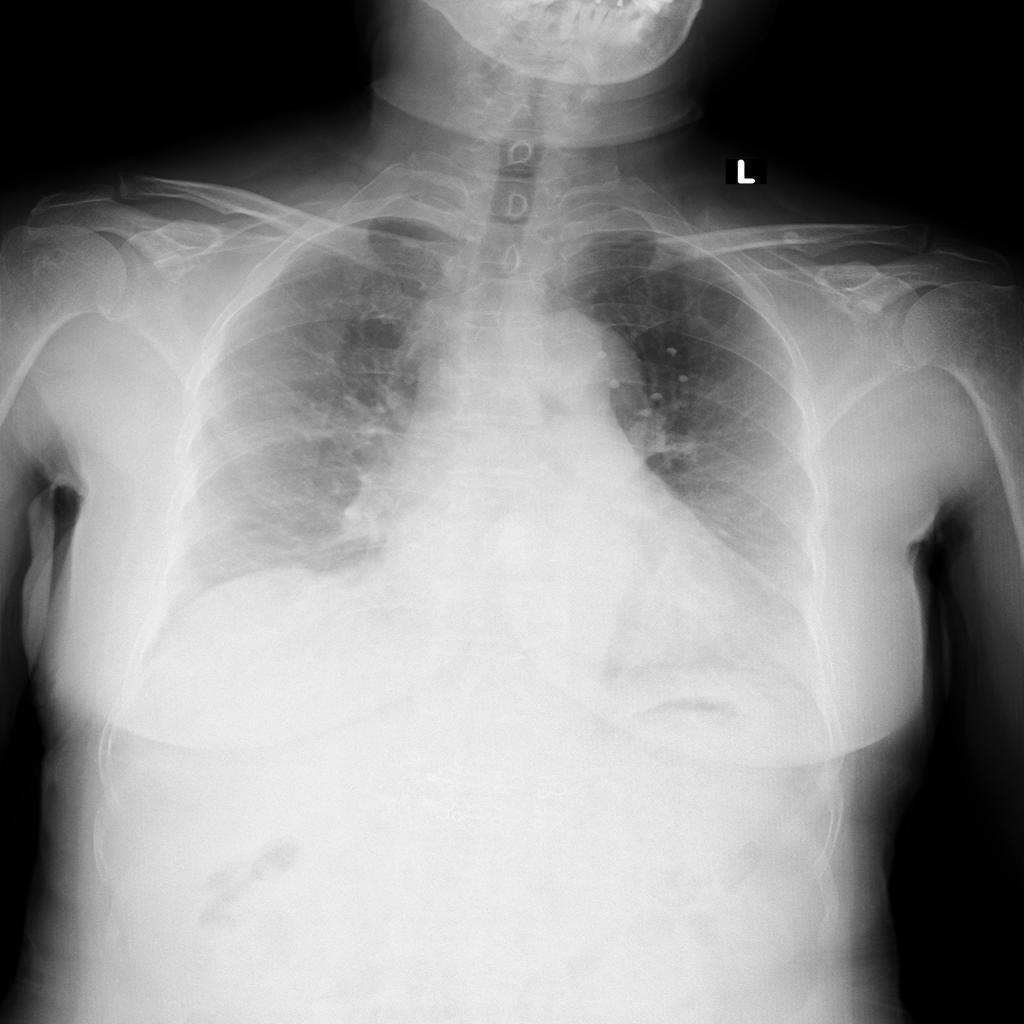Nodule: (671, 371, 697, 388), (665, 346, 681, 361), (605, 378, 623, 391), (593, 349, 612, 360), (649, 393, 666, 403)
